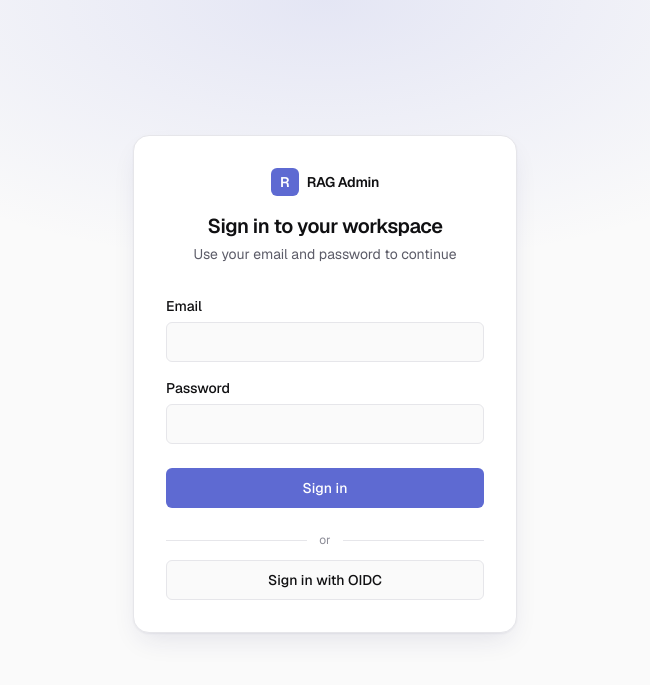
it: LoginPage › shows an error message when login rejects with Unauthorized
The width and height of the screenshot is (650, 685).
In the field labelled "Email": {"x": 325, "y": 342} [166, 322, 484, 362], type "a@b.com"
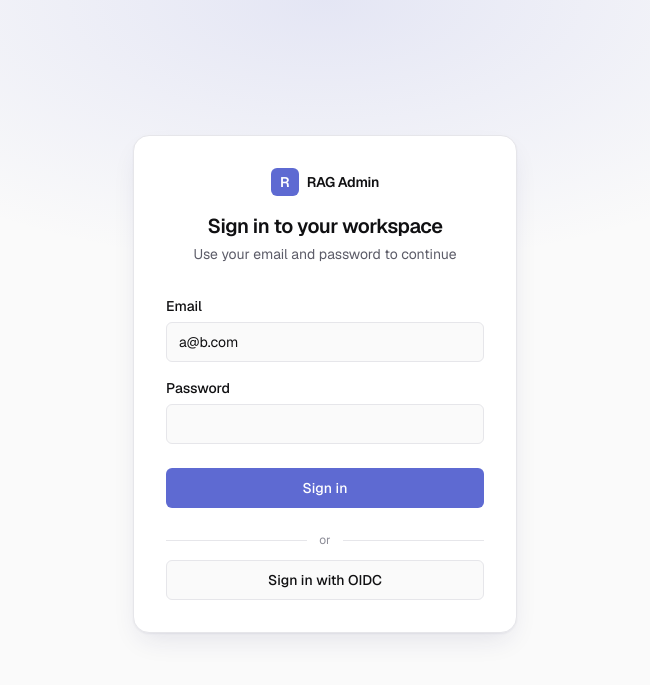
In the password field labelled "Password": {"x": 325, "y": 424} [166, 404, 484, 444], type "wrong"
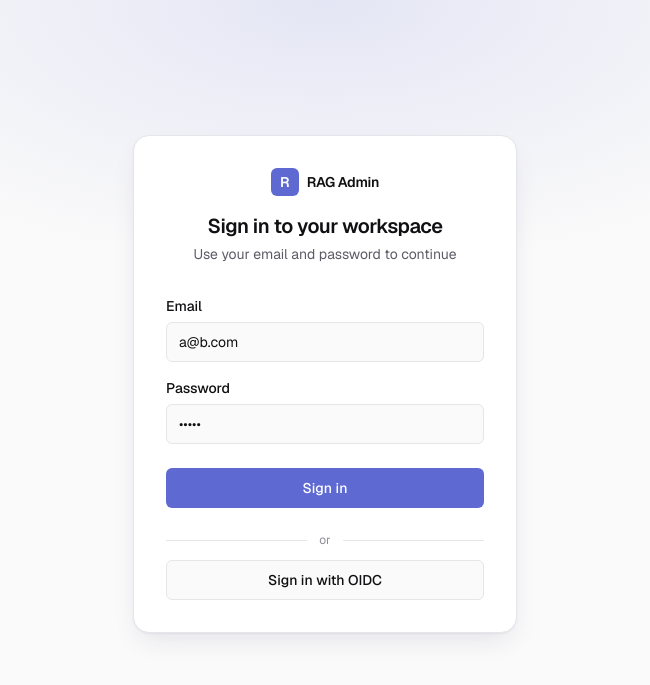
Click the button "Sign in": {"x": 325, "y": 488} [166, 468, 484, 508]
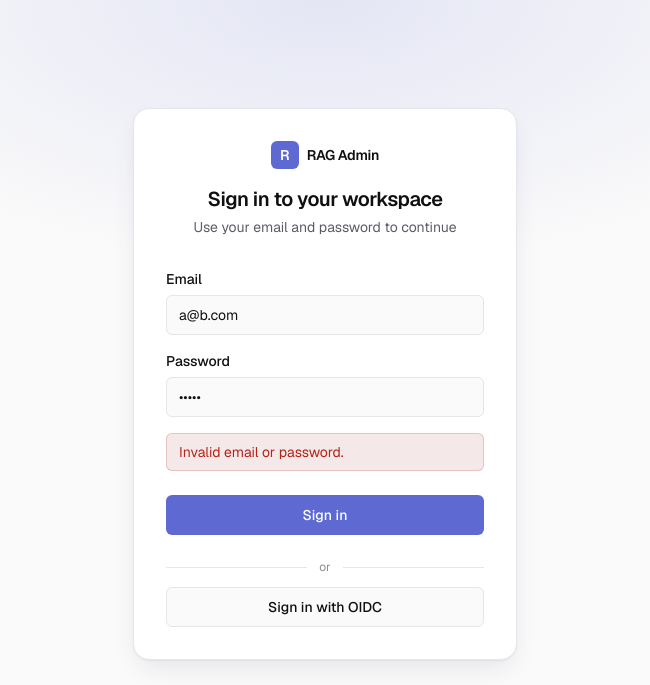
Check: the text "Invalid email or password." is shown, box [166, 433, 484, 471]
